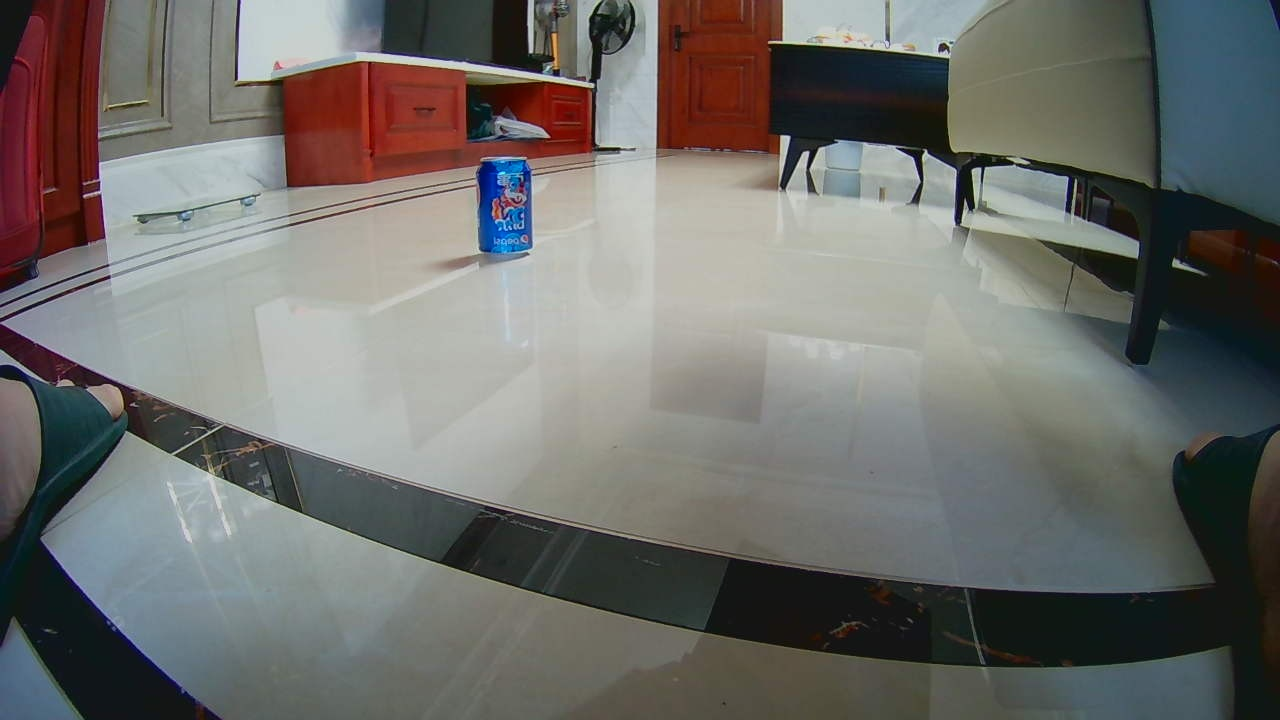pessi: (473, 156, 529, 256)
